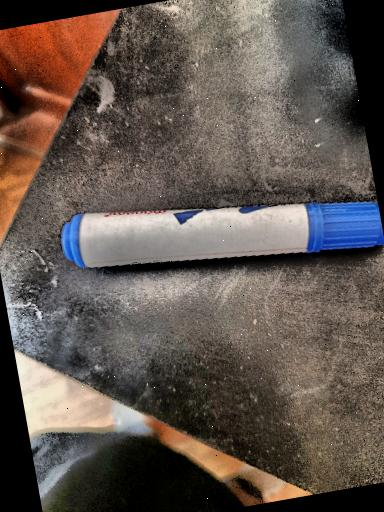marcador azul: (61, 201, 384, 267)
